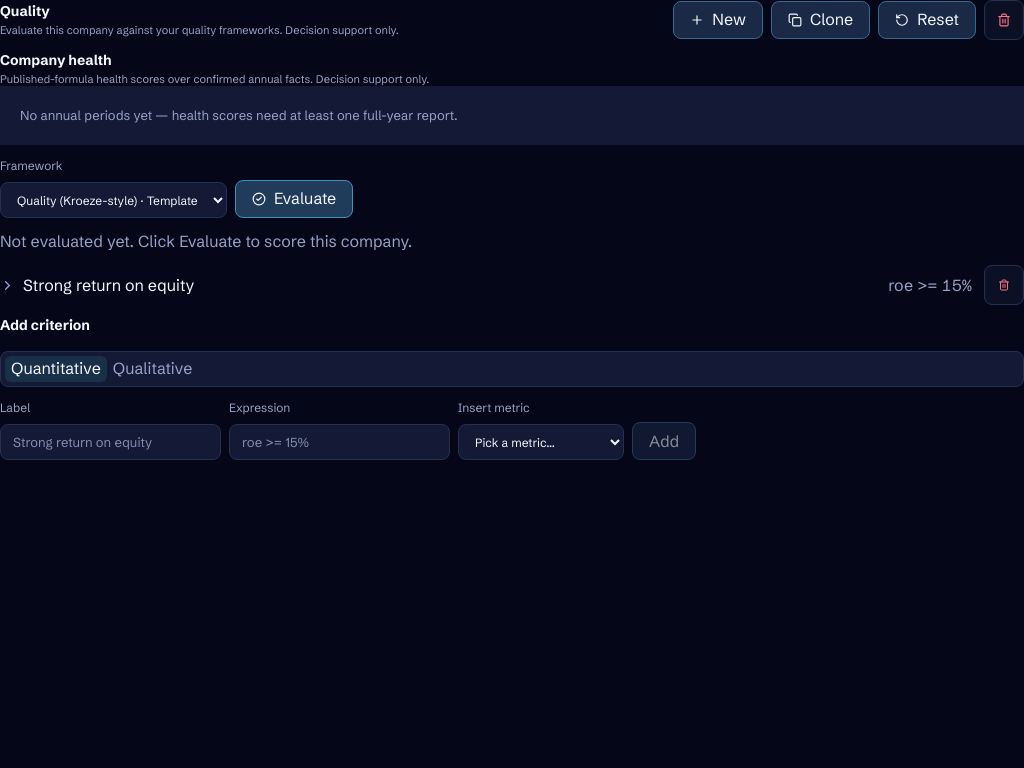
QualityPanel › runs an evaluation and shows the scorecard verdict
Expected: the text "Strong return on equity" is shown, x1=23 y1=275 x2=194 y2=295
Step 1. Click the button "Evaluate" → (294,199), box x1=235 y1=180 x2=353 y2=218
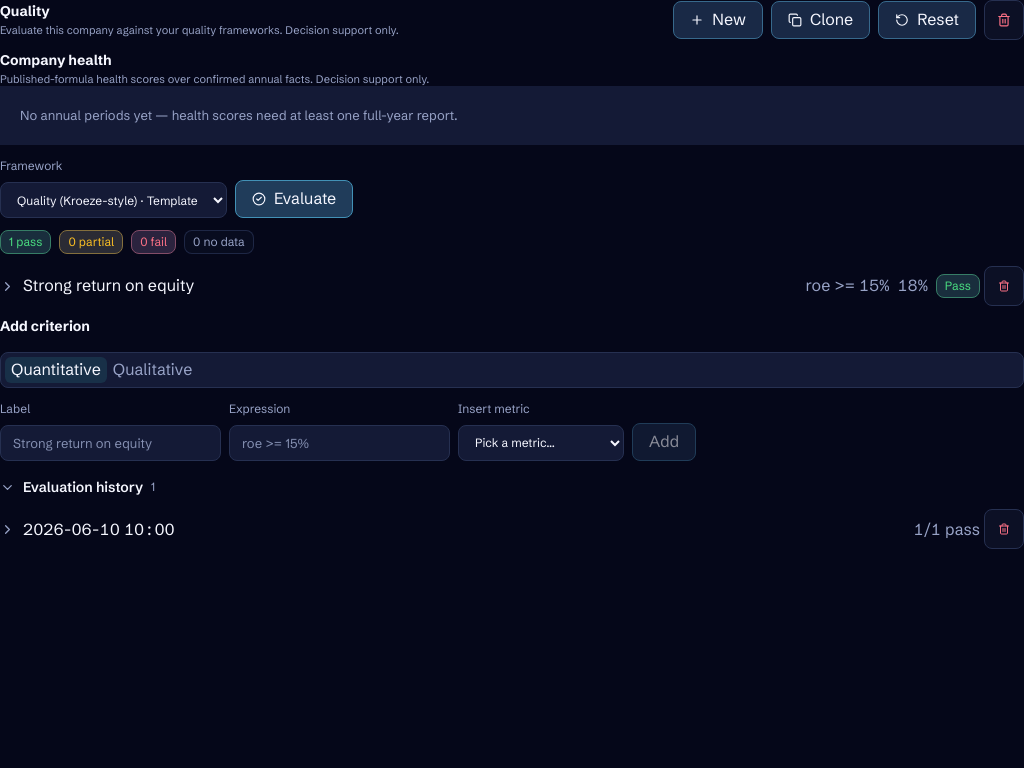
Expected: the text "Pass" is shown, x1=936 y1=274 x2=980 y2=298
Expected: the text "18%" is shown, x1=897 y1=274 x2=928 y2=298
